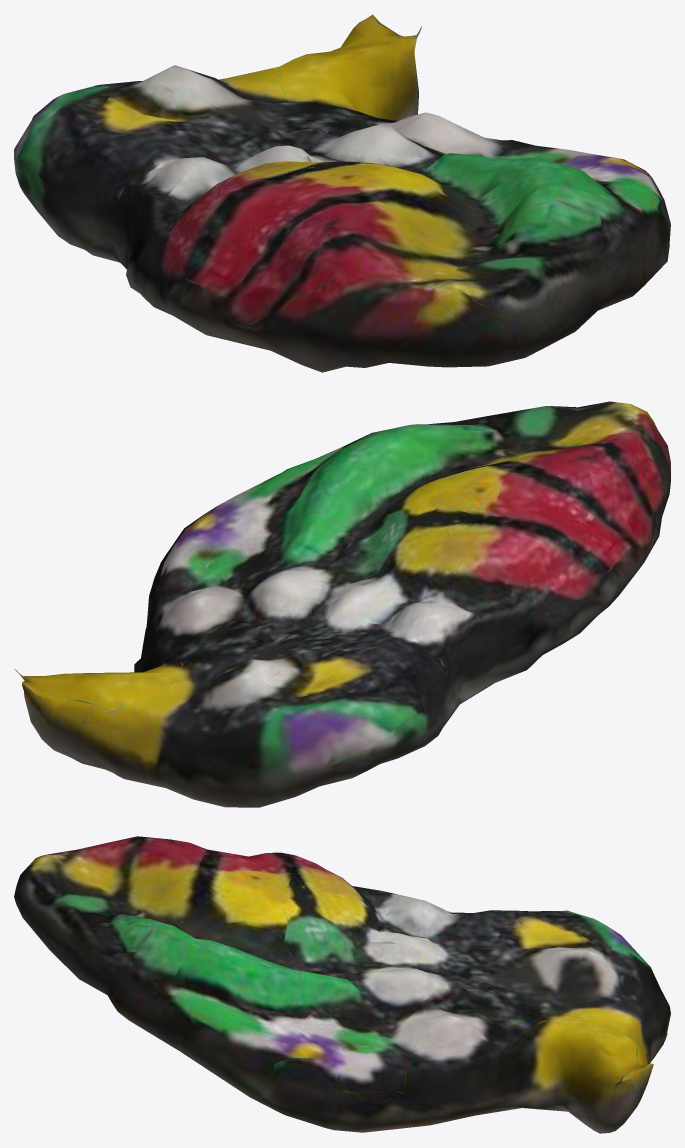
File: hall.glb
3 renders of one model, top to bottom at view 1: azimuth 30°, elevation 25°; view 2: azimuth 150°, elevation 25°; view 3: azimuth 270°, elevation 25°, orthographic. The views are drawn at different scales.
Size of the model in its own units: 0.3797 by 0.168 by 0.5759.
Materials: 1 (1 with a texture image).
